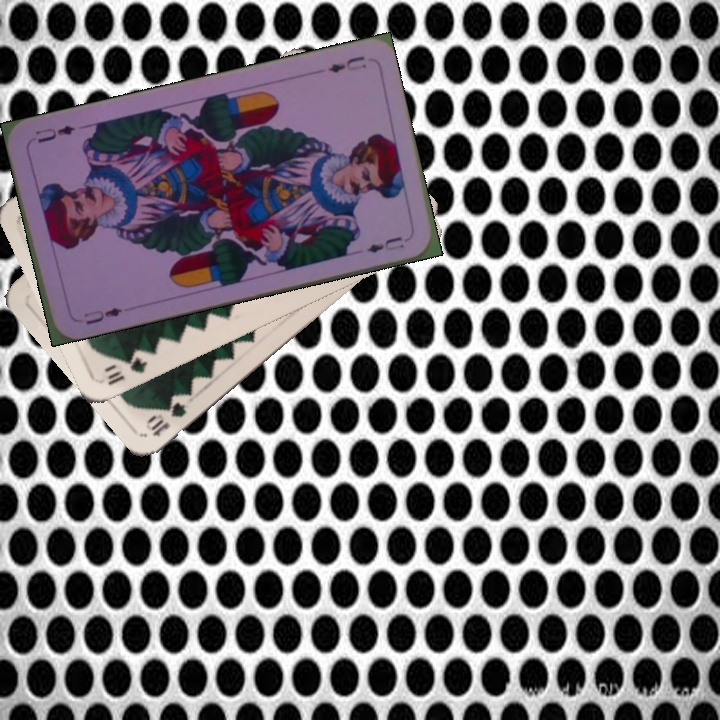EU: (80, 303, 126, 327), (324, 52, 369, 76)
G10: (144, 397, 189, 439), (103, 351, 150, 388)
